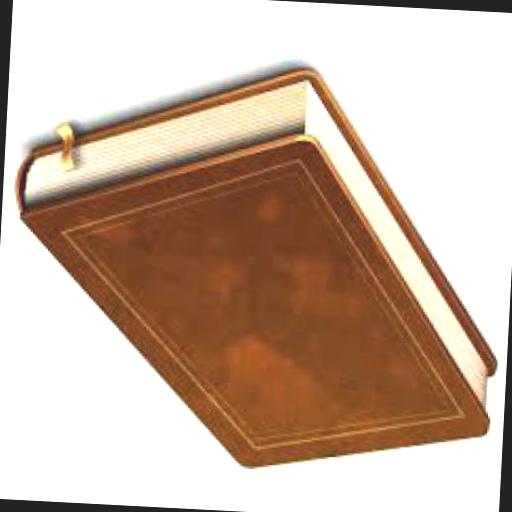paper: (0, 55, 510, 484)
